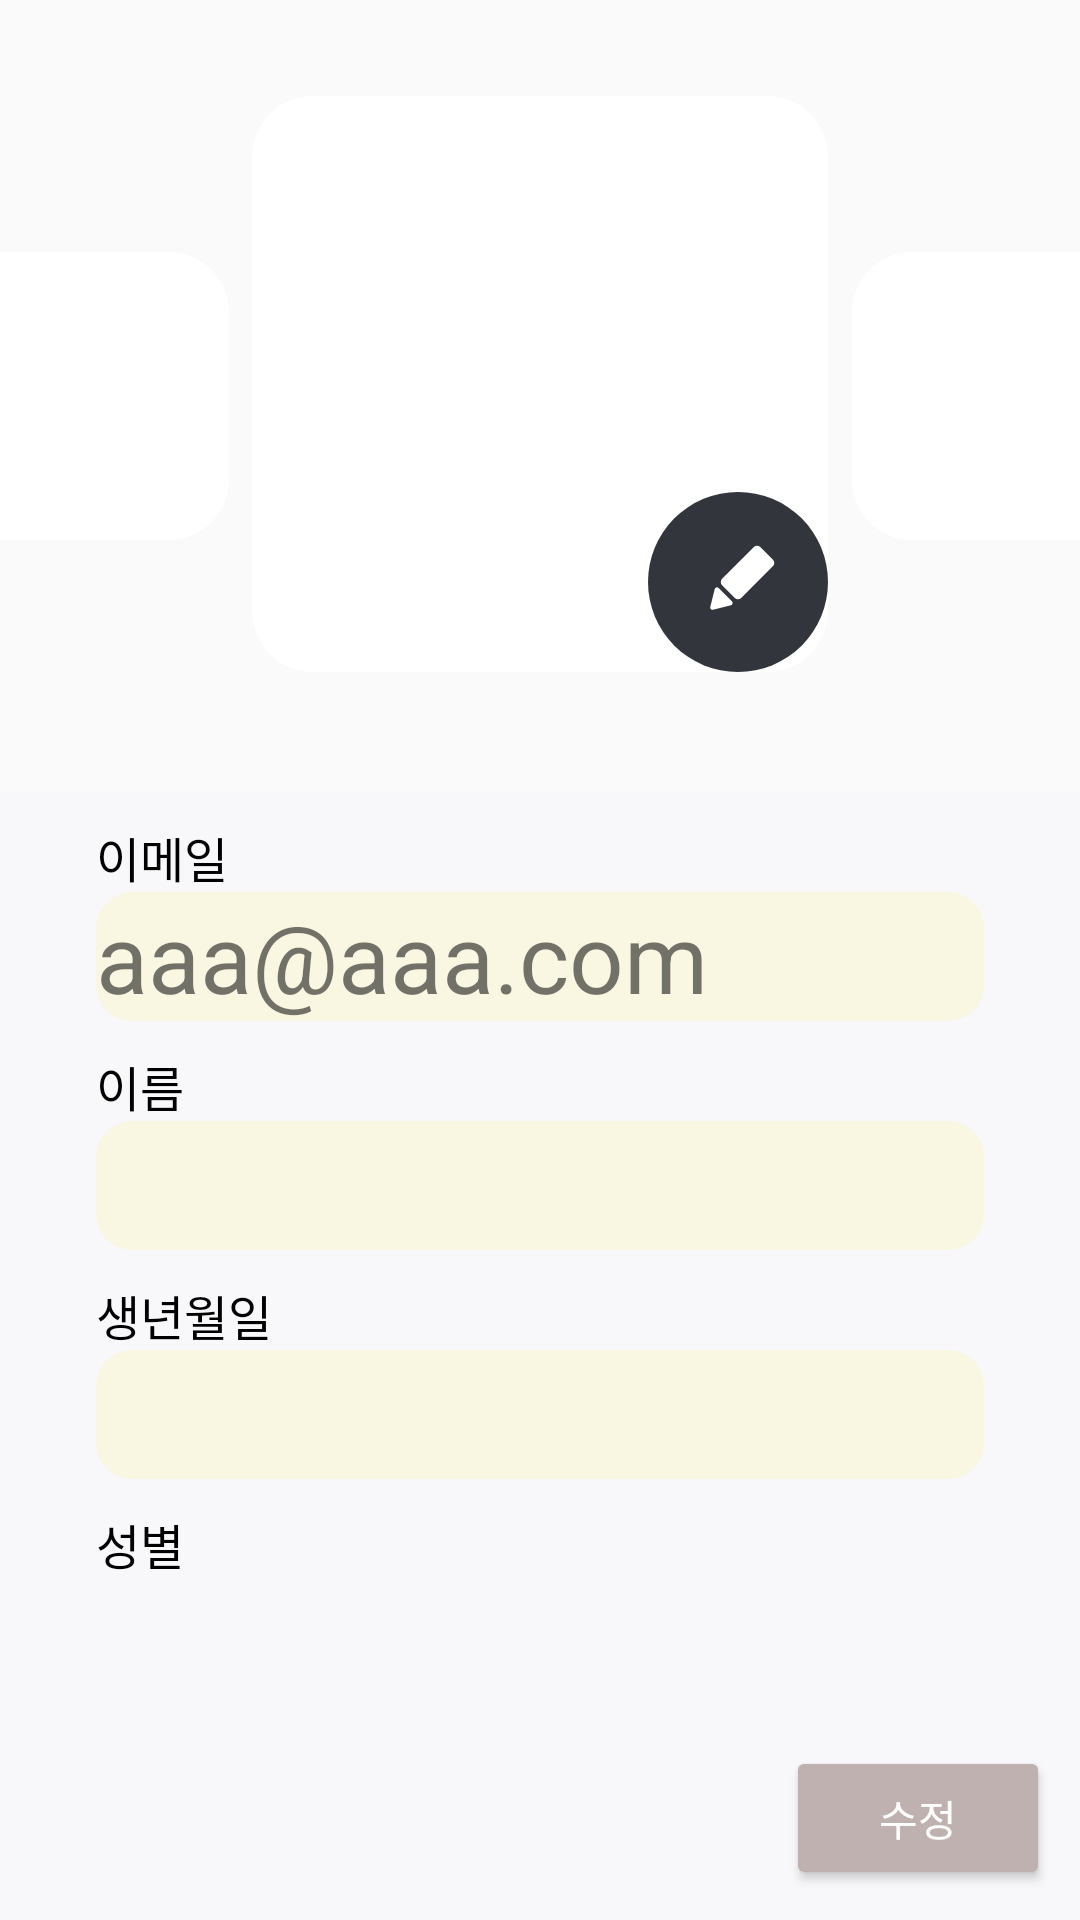

Locate icon controls on the screen. Image size 1080×1920, boxes as bbox=[x1, y1, x2, y2].
edit profile: bbox=[648, 492, 828, 672]
